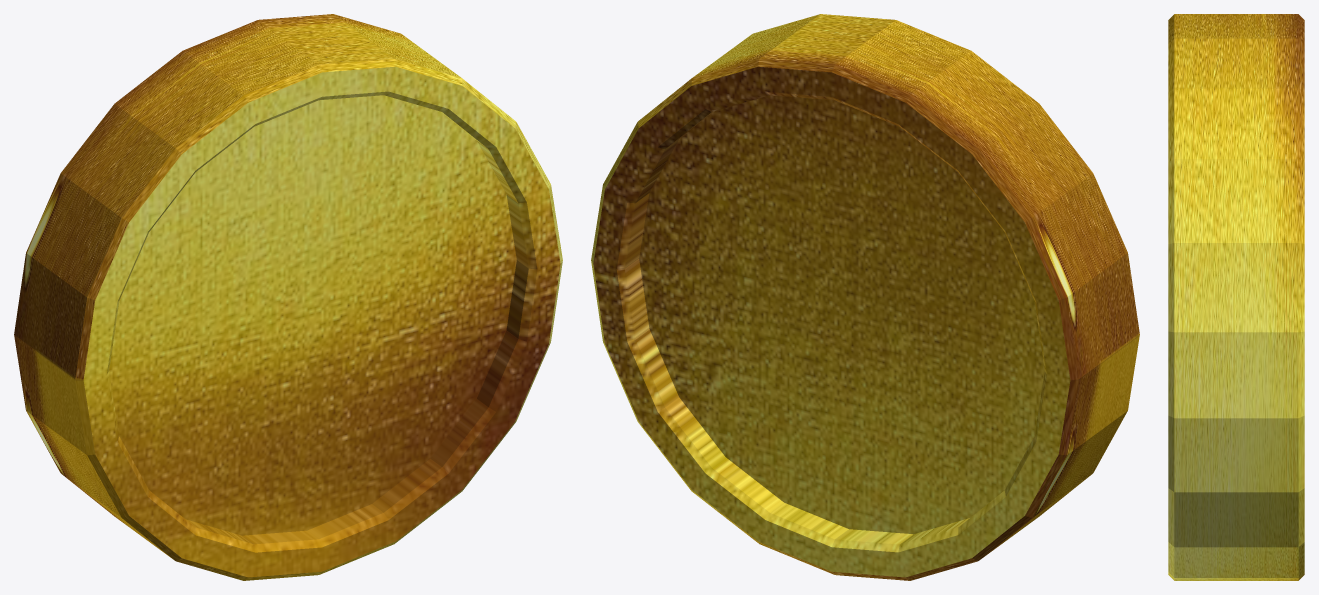
The model's file is moneda.obj.
The picture shows the model from 3 angles, left to right: view 1: azimuth 30°, elevation 25°; view 2: azimuth 150°, elevation 25°; view 3: azimuth 270°, elevation 25°; orthographic projection.
Visible parts, largest first — view 1: Cylinder; view 2: Cylinder; view 3: Cylinder.
Boxes of the visible parts, x1=… form: Cylinder: x1=14, y1=14, x2=562, y2=580; Cylinder: x1=591, y1=14, x2=1139, y2=580; Cylinder: x1=1168, y1=14, x2=1304, y2=580.
Bounding box in the file's own units: 2 × 2 × 0.4776.
1 material, 1 textured.
